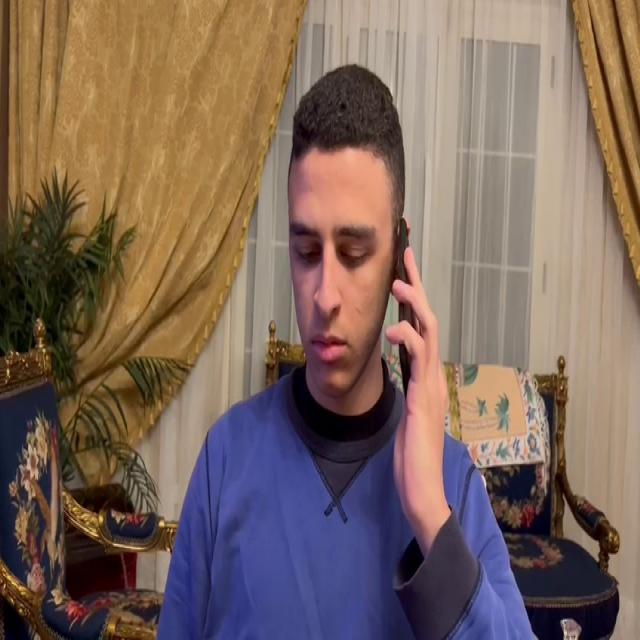phone: (394, 211, 424, 395)
